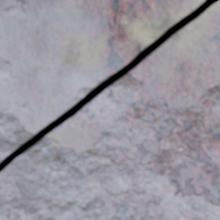brick: (0, 0, 219, 219), (0, 0, 203, 160)
crack: (0, 0, 218, 172)
